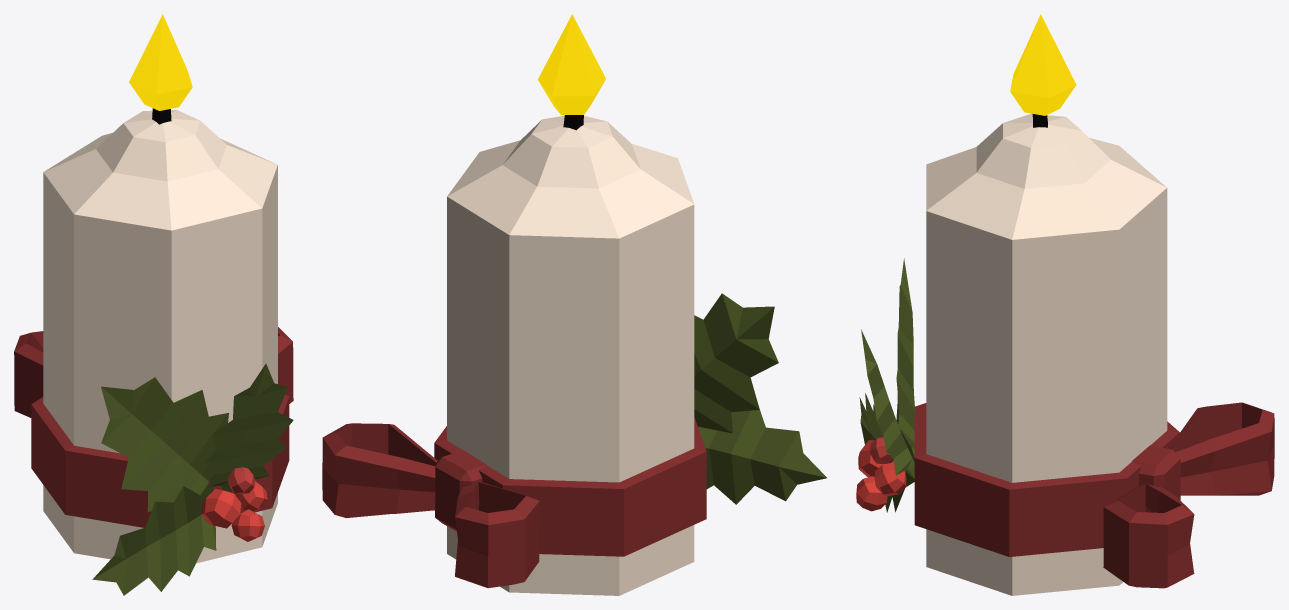
The model's file is candle-decorated-lit-christmas.glb.
3 renders of one model, left to right at view 1: azimuth 30°, elevation 25°; view 2: azimuth 150°, elevation 25°; view 3: azimuth 270°, elevation 25°, orthographic. The views are drawn at different scales.
Visible parts, largest first — view 1: candle_decorated_lit_christmas; view 2: candle_decorated_lit_christmas; view 3: candle_decorated_lit_christmas.
Boxes of the visible parts, bbox=[...] form: candle_decorated_lit_christmas: bbox=[14, 14, 293, 595]; candle_decorated_lit_christmas: bbox=[322, 14, 826, 595]; candle_decorated_lit_christmas: bbox=[856, 14, 1274, 595].
Bounding box in the file's own units: 0.1354 × 0.1962 × 0.1403.
2 materials, 1 textured.
